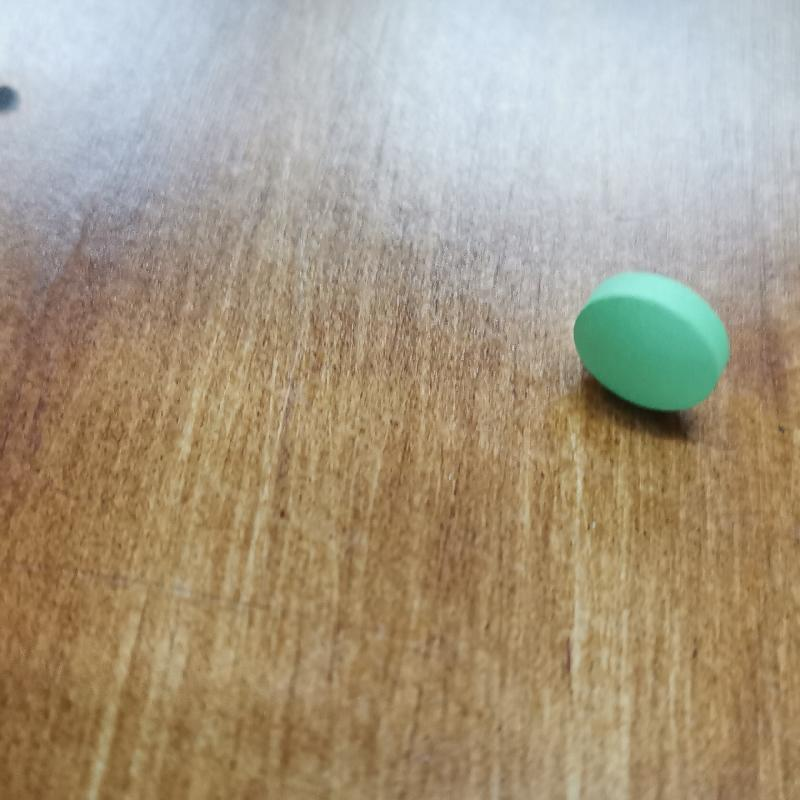pills: (554, 262, 739, 428)
